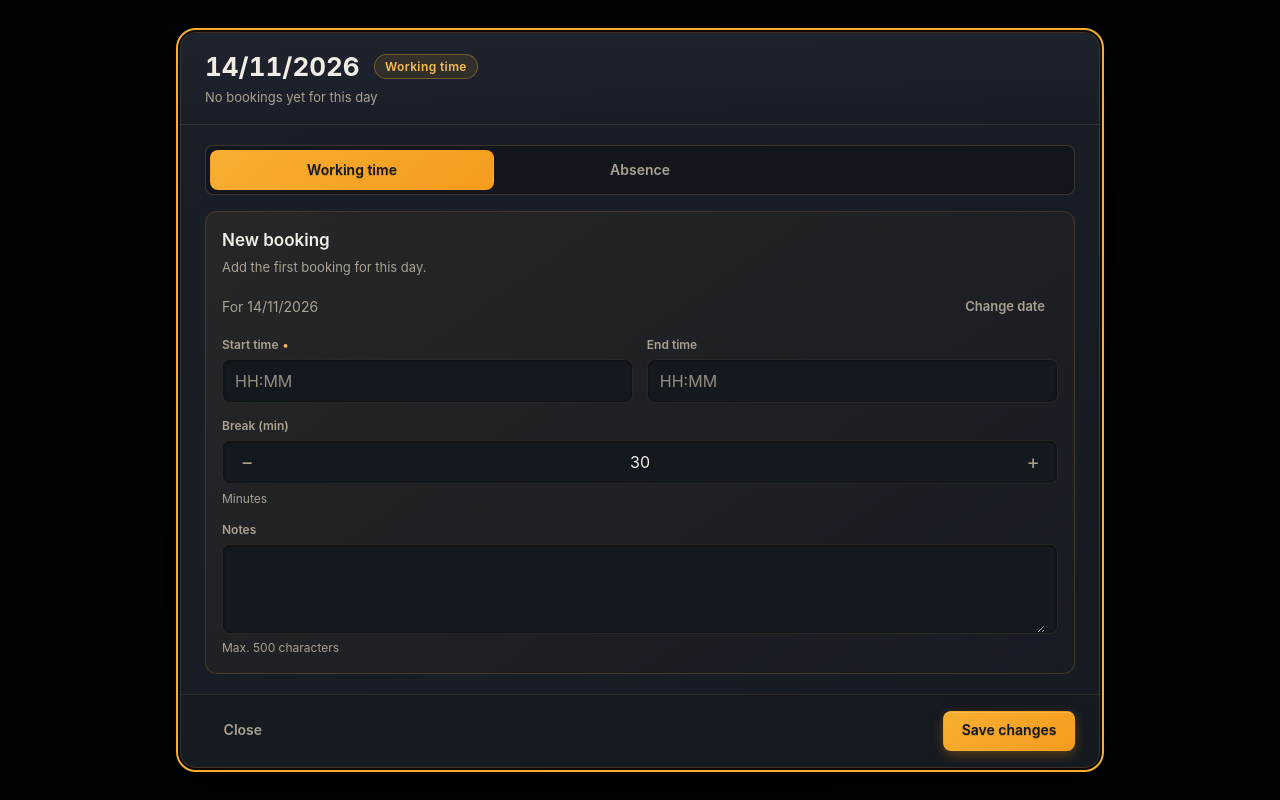
Test case: TimeEntryDialog › saves a new booking with HH:mm times and an open end
Expected: the heading "New booking" is shown, [222,230,330,250]
Type "09:00" into the field labelled "Start time•" at (428, 382), box [235,360,620,402]
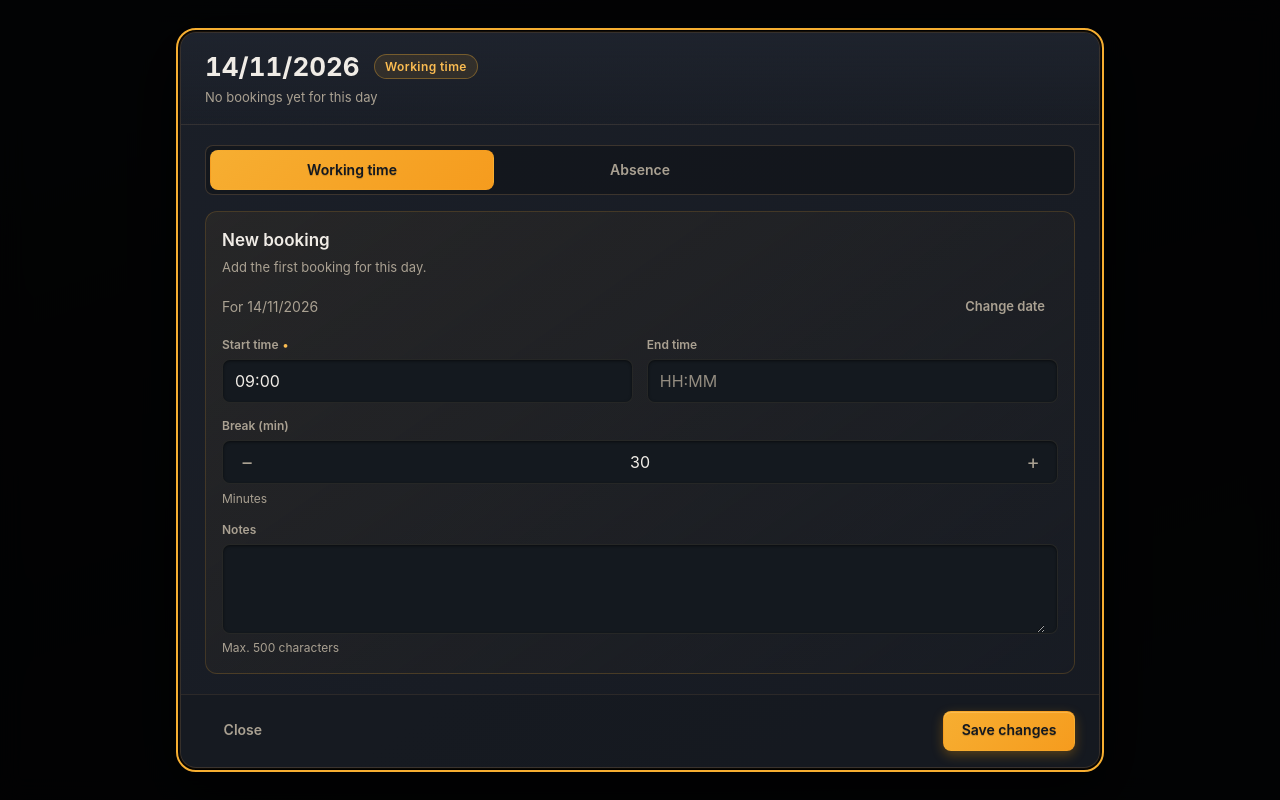
Type "  Focus work  " into the text box labelled "Notes" at (640, 589), box [235,545,1045,633]
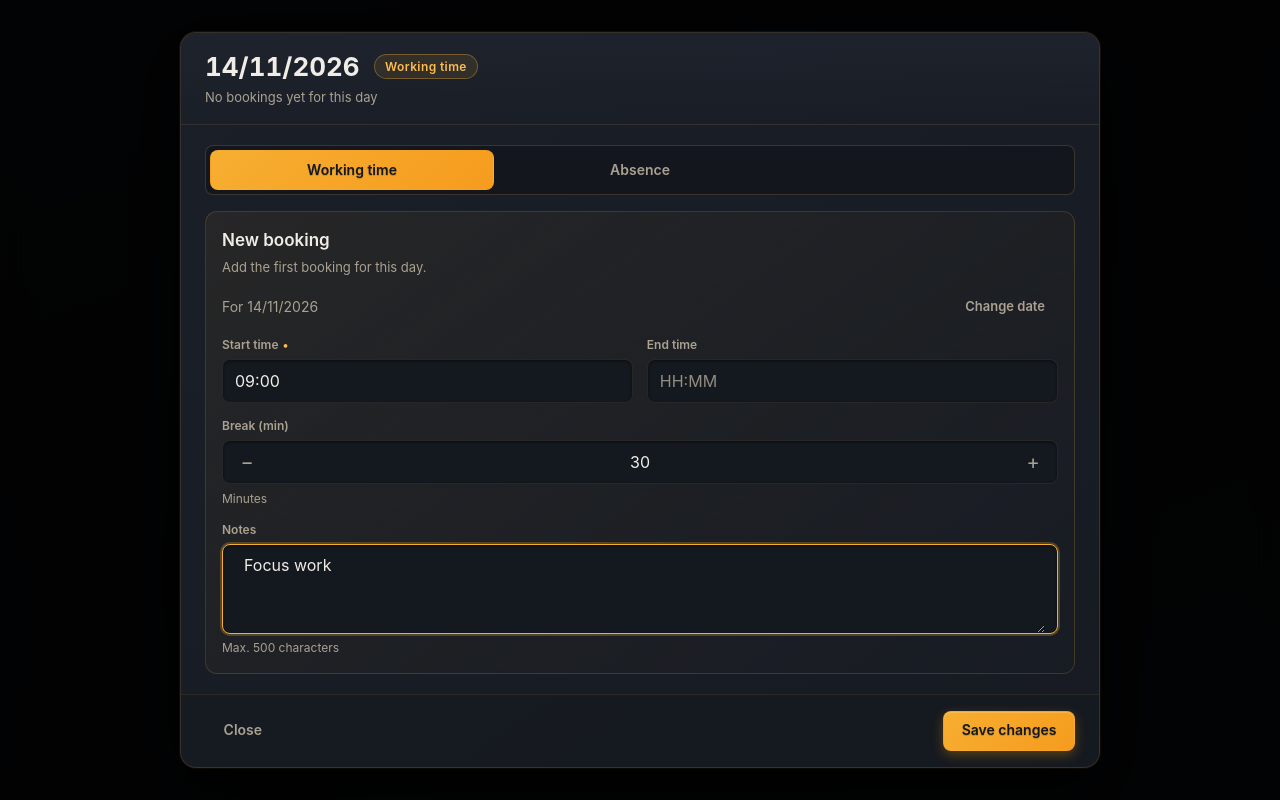
Click the button "Save changes" at (1009, 731), box [943,711,1075,751]
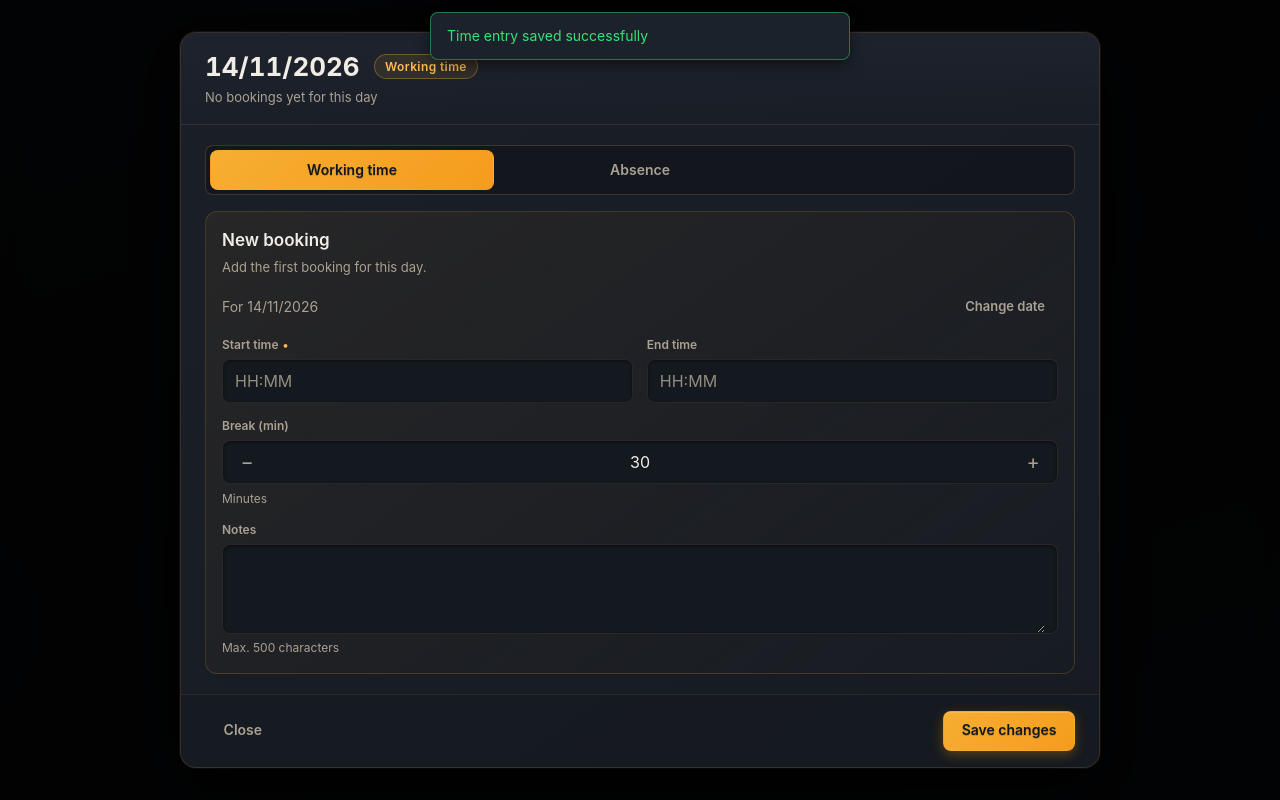
Expected: the heading "New booking" is shown, [222,230,330,250]
Expected: the text "Time entry saved successfully" is shown, [430,12,850,60]
Expected: the field labelled "Start time•" is empty, [235,360,620,402]
